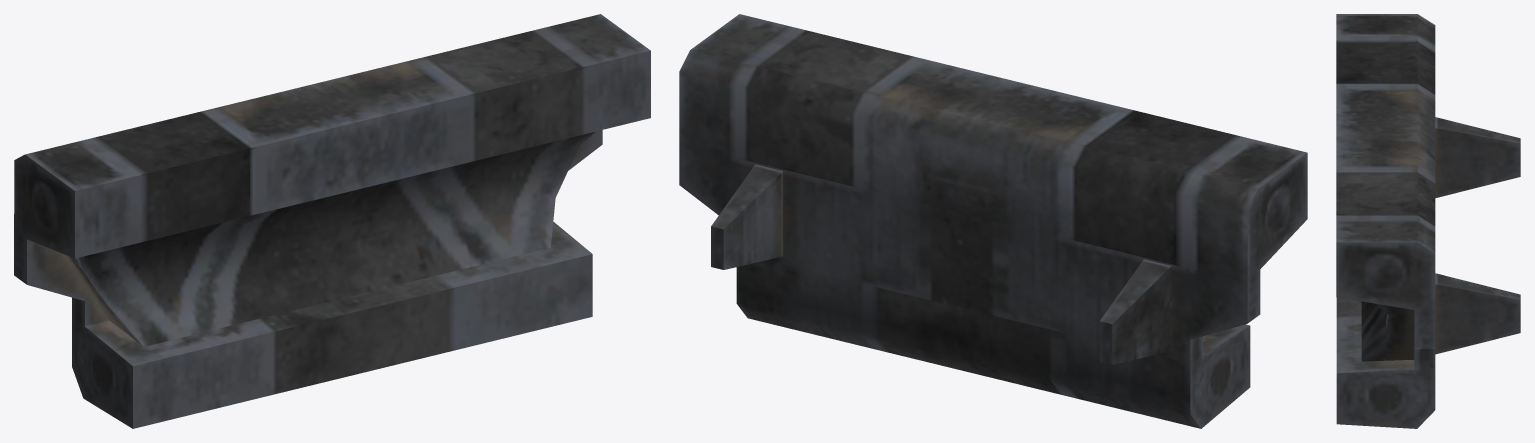
3 views of the same model, side by side, from view 1: azimuth 30°, elevation 25°; view 2: azimuth 150°, elevation 25°; view 3: azimuth 270°, elevation 25° (orthographic). The views are drawn at different scales.
Visible parts, largest first — view 1: set_0_group_0; view 2: set_0_group_0; view 3: set_0_group_0.
Part boxes in pixels (x1,y1,x2,y2): set_0_group_0: [14, 14, 650, 428]; set_0_group_0: [679, 14, 1307, 428]; set_0_group_0: [1336, 14, 1520, 428].
Bounding box in the file's own units: 0.2392 × 0.1024 × 0.0816.
1 material, 1 textured.
